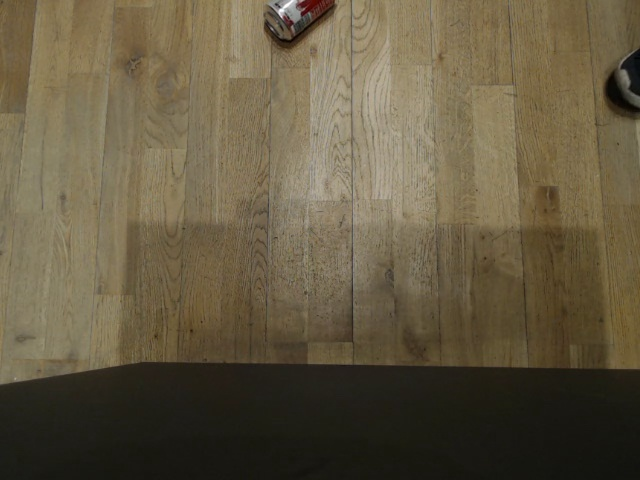cola: (262, 0, 335, 43)
